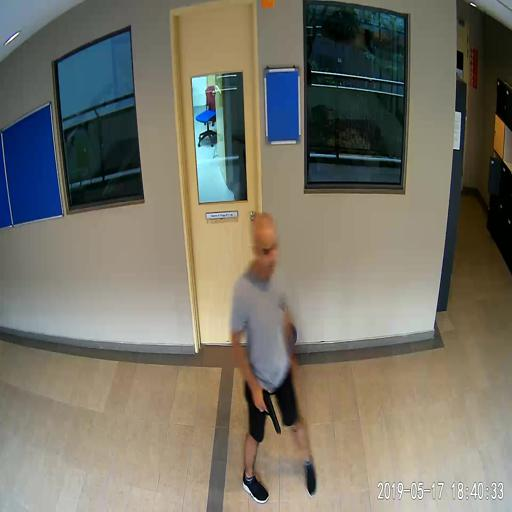pistol: (254, 388, 279, 434)
